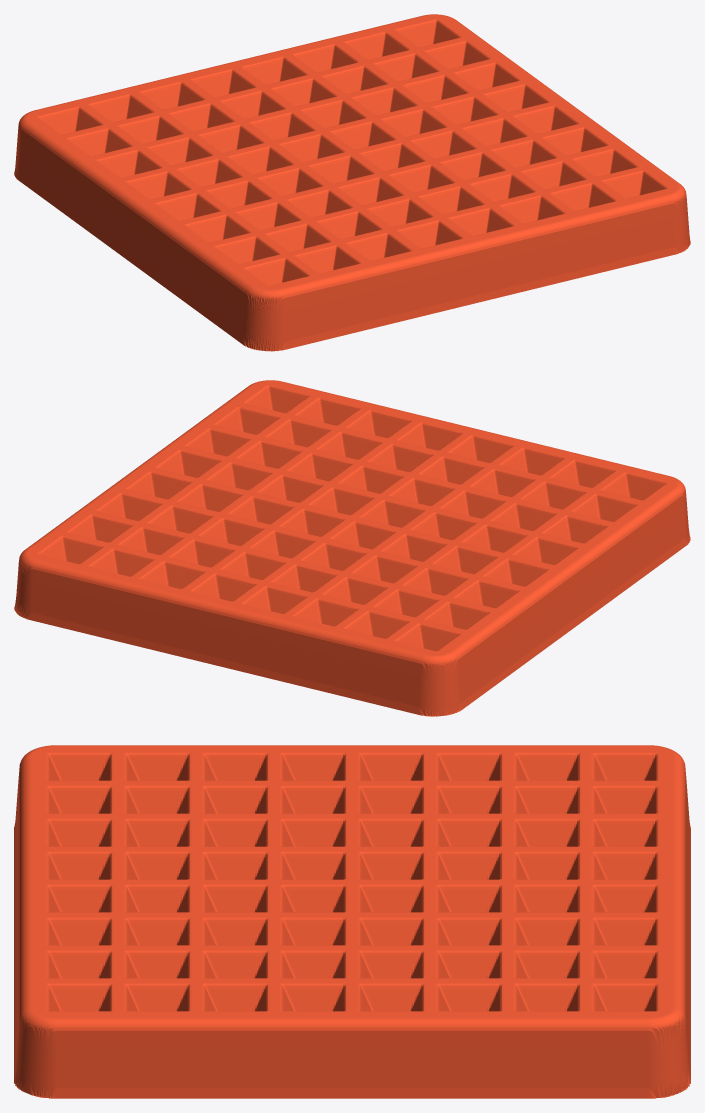
Rendered from mold.glb.
3 views of the same model, one above another, from view 1: azimuth 30°, elevation 25°; view 2: azimuth 150°, elevation 25°; view 3: azimuth 270°, elevation 25° (orthographic). The views are drawn at different scales.
Parts seen in each view (by area): view 1: geometry_0; view 2: geometry_0; view 3: geometry_0.
Boxes of the visible parts, box(x1,y1,x2,y2) form: geometry_0: box(14, 14, 690, 351); geometry_0: box(14, 380, 690, 716); geometry_0: box(14, 745, 690, 1098).
Size of the model in its own units: 0.1443 by 0.0173 by 0.1443.
